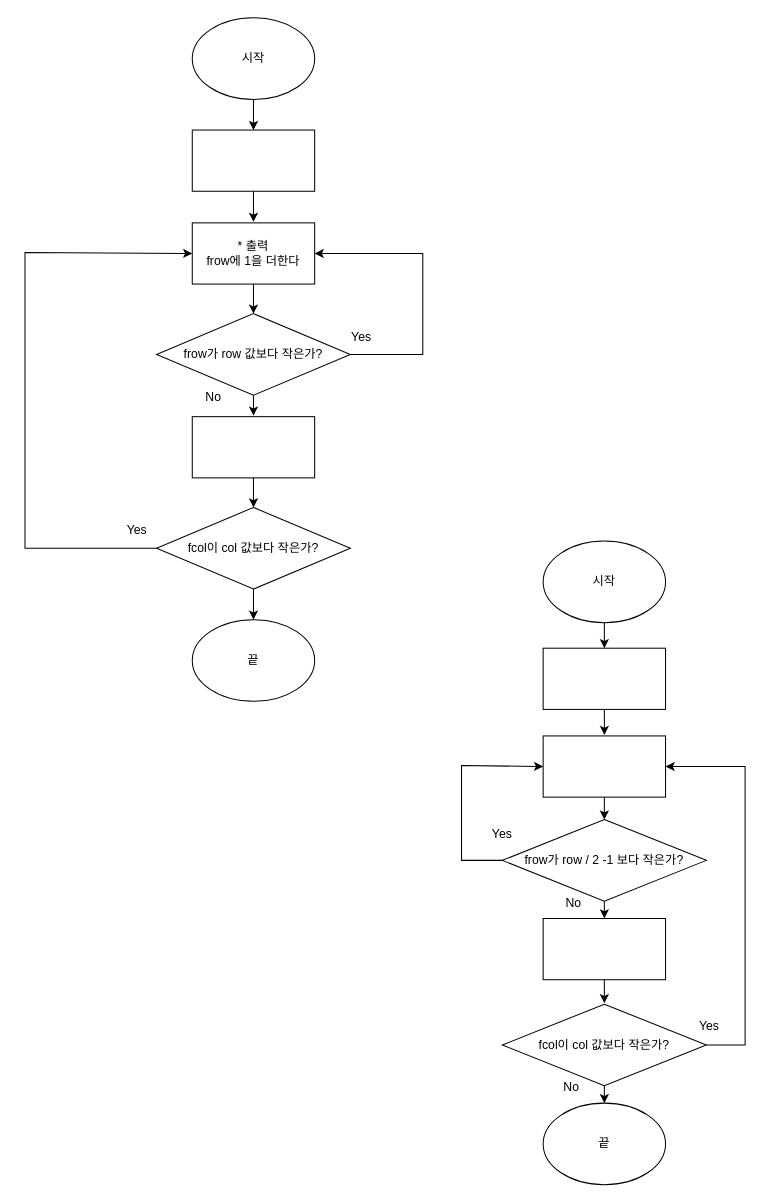
This 771x1203 diagram has some shape labels left out. Each missing label, with the centre of its shape:
frow 0으로 초기화 줄바꿈 fcol에 1을 더한다: (253,447)
row : x, frow : 0 col : y, fcol : 0: (253,160)
row : x, frow : 0 col : y, fcol : 0 stick : z, fstick : 0: (604,678)
| | 을 출력한다 줄바꿈 fcol에 1을 더한다: (604,948)
공백 출력 frow에 1을 더한다: (604,766)
